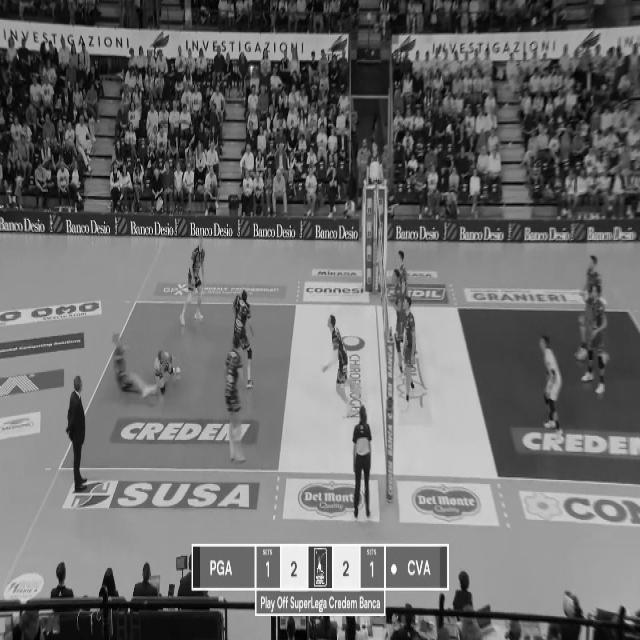volleyball court: (61, 303, 640, 484)
